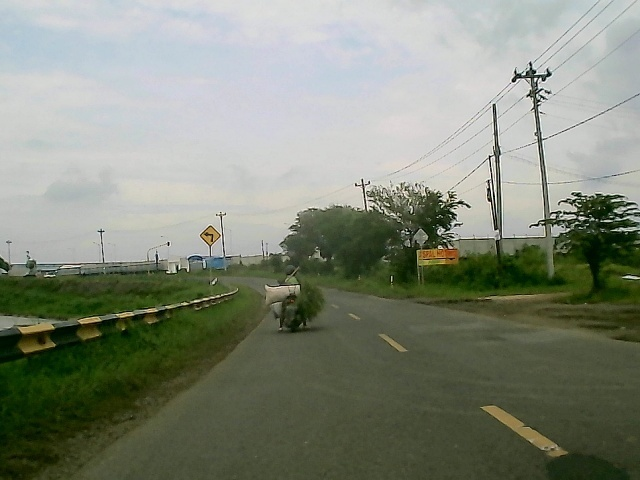Tikungan tajam ke kiri: (201, 225, 221, 246)
